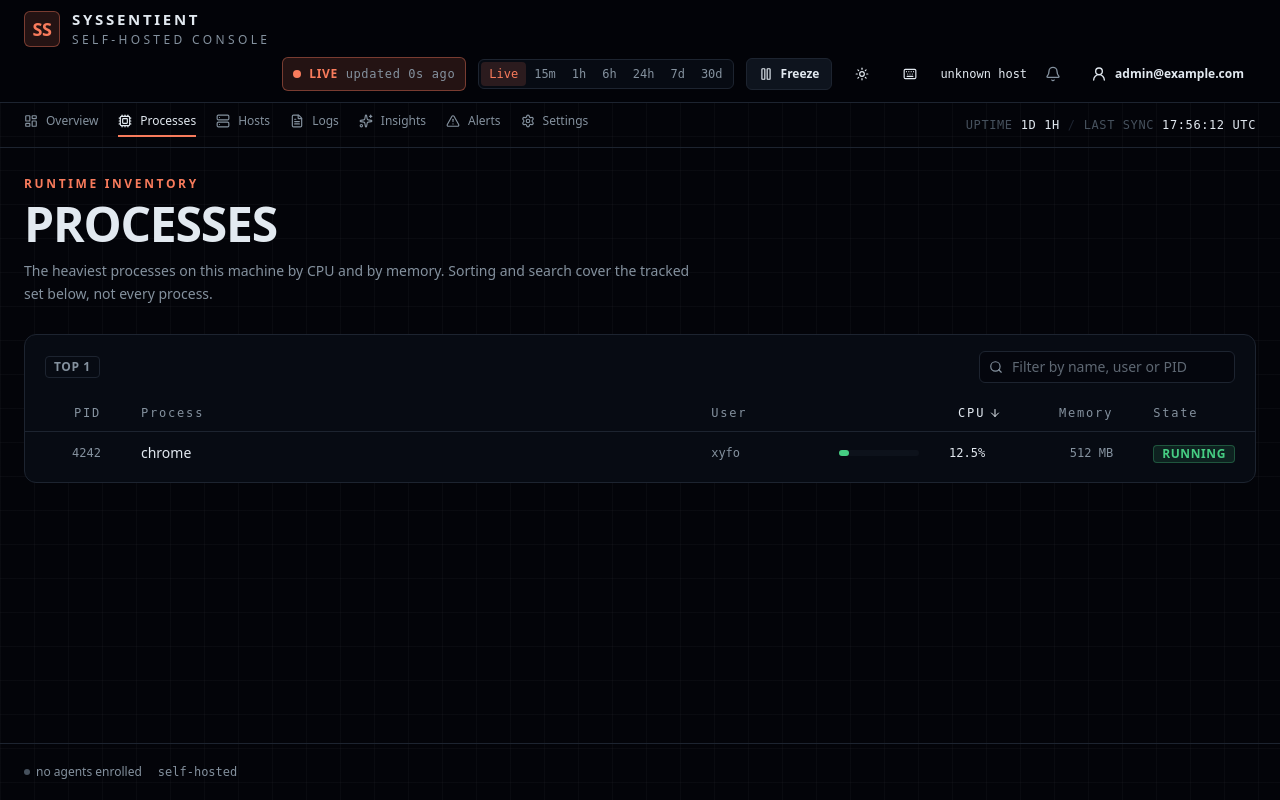
Test case: freezing the stream › holds the displayed values while the feed keeps running
The width and height of the screenshot is (1280, 800).
Check: the text "chrome" is shown, box [121, 431, 691, 474]
Click the button "Freeze" at [789, 74], box [746, 58, 832, 90]
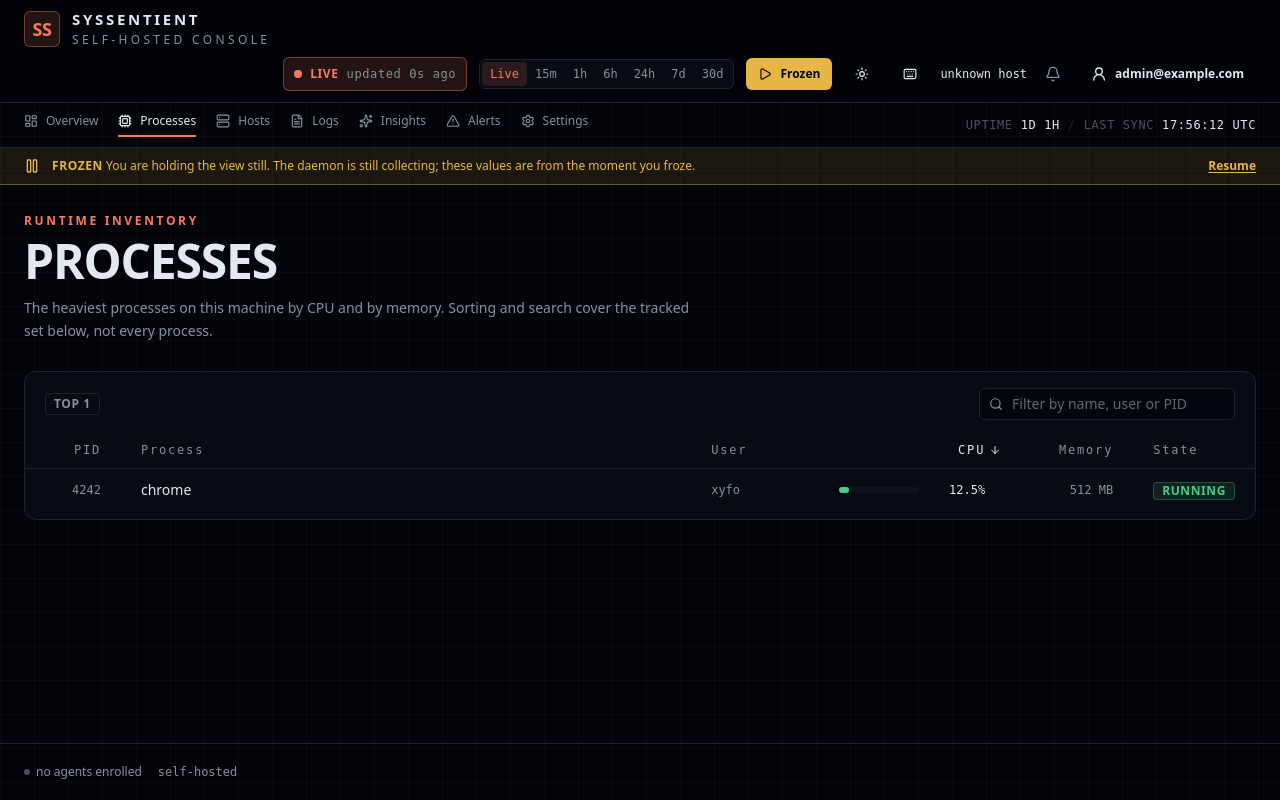
Check: the text "chrome" is shown, box [121, 468, 691, 510]
Check: the text "postgres" is not shown
Resuming catches up.
Click the button "Frozen" at [789, 74], box [746, 58, 832, 90]
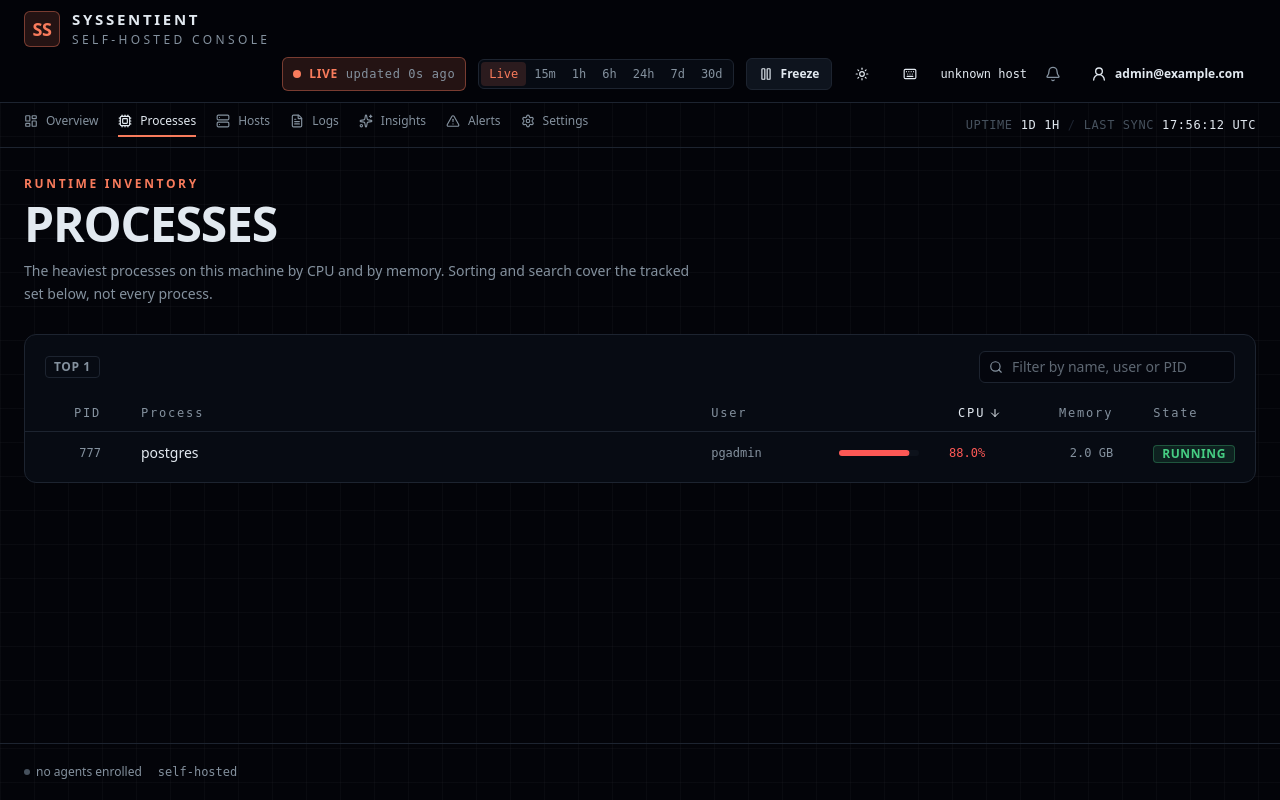
Check: the text "postgres" is shown, box [121, 431, 691, 474]
